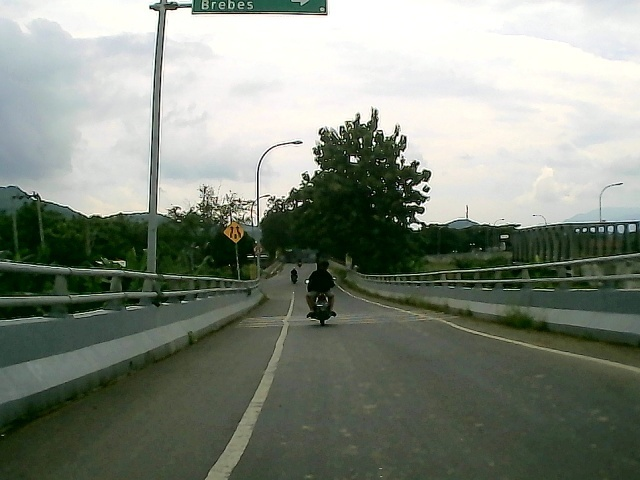Akhir bangunan pemisah satu arah: (221, 221, 250, 246)
